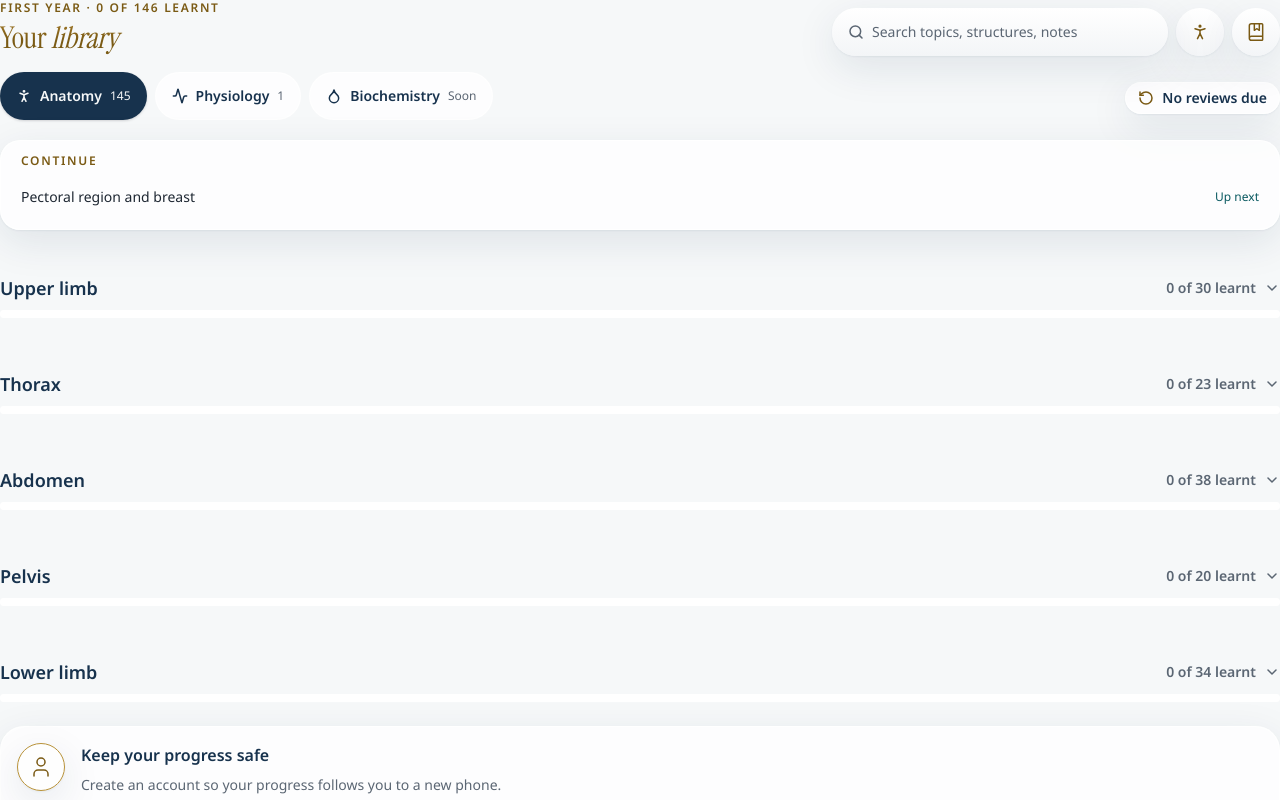
Scenario: Library › previews a topic in a drawer on a phone, and closes it again
Step 1. Click the button "Pectoral region and breast Up next" → x=108, y=196, box top-left (9, 173), bottom-right (1271, 221)
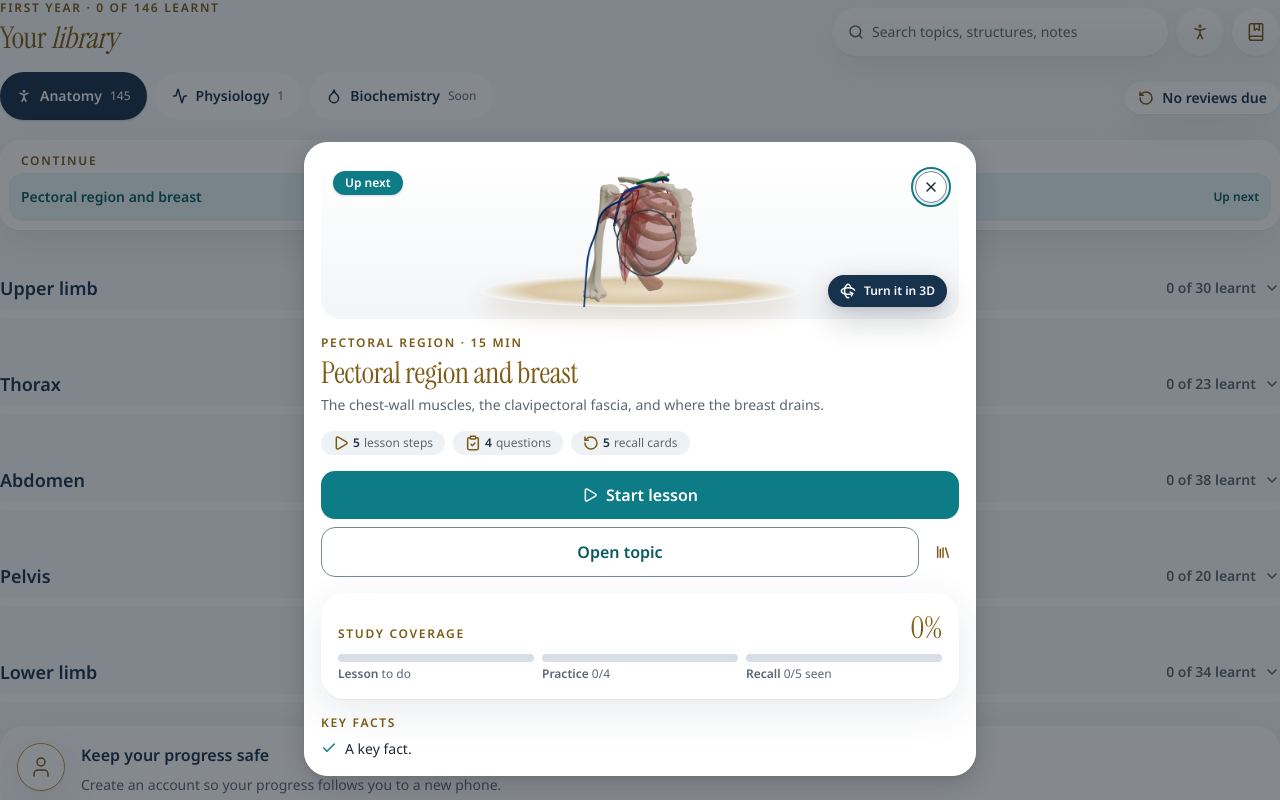
Step 2. Click the button named "Close the preview" → x=931, y=187, box top-left (915, 171), bottom-right (947, 203)
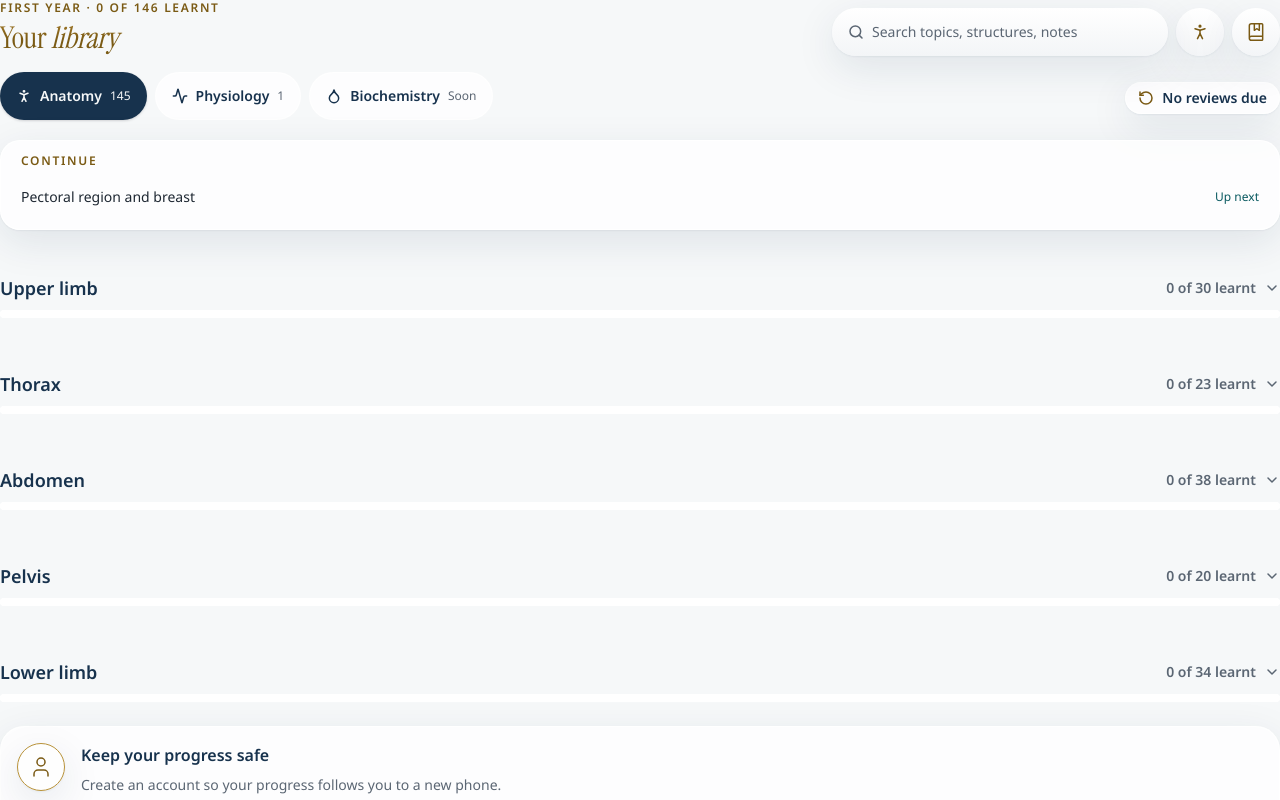
Expected: the dialog is gone
